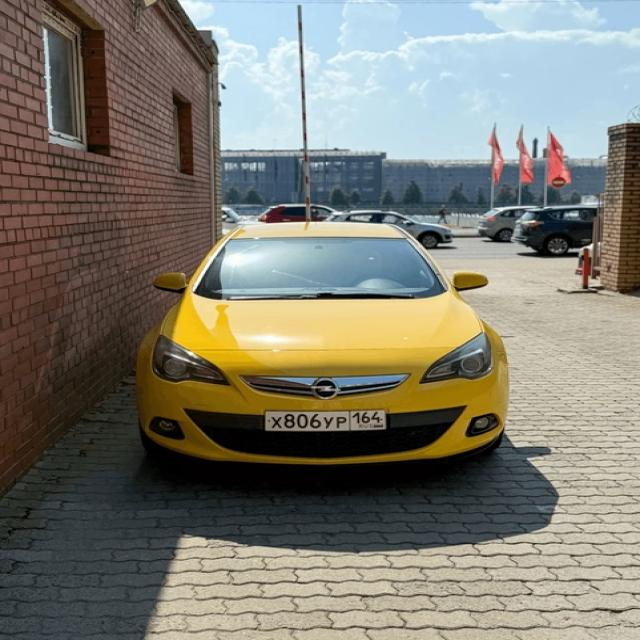opel: (312, 376, 343, 400)
